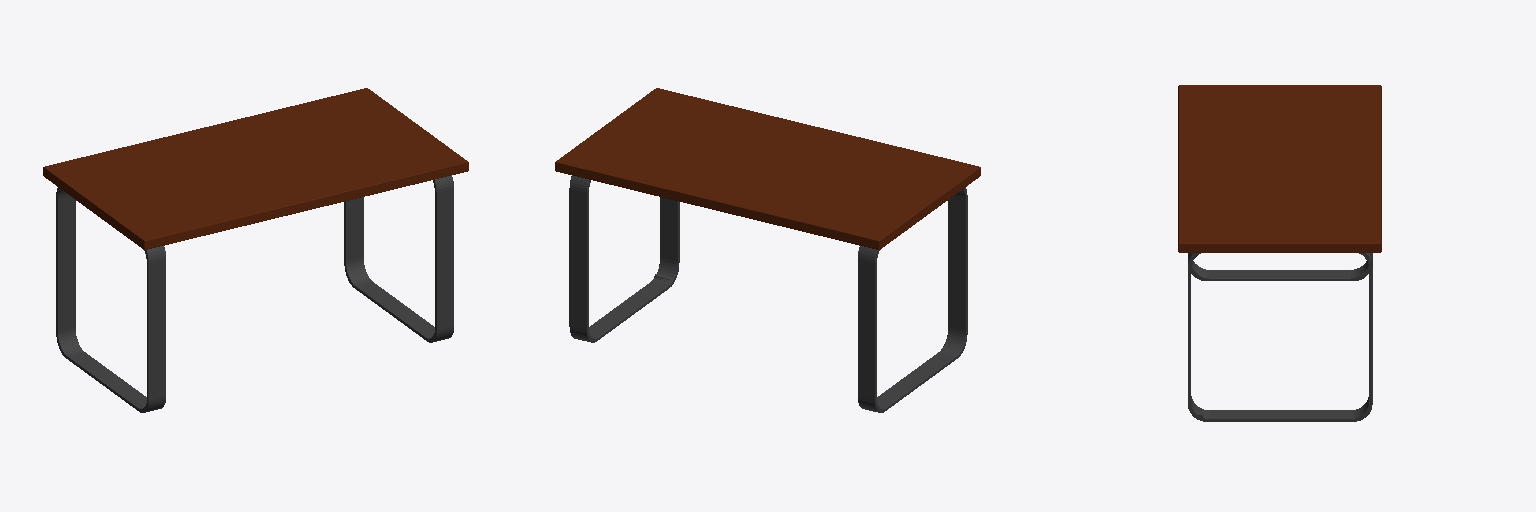
Rendered from desk2.obj.
The picture shows the model from 3 angles: view 1: azimuth 30°, elevation 25°; view 2: azimuth 150°, elevation 25°; view 3: azimuth 270°, elevation 25°; orthographic projection.
Visible parts, largest first — view 1: BasicDesk_2; view 2: BasicDesk_2; view 3: BasicDesk_2.
Boxes of the visible parts, x1=… form: BasicDesk_2: x1=43, y1=88, x2=468, y2=412; BasicDesk_2: x1=555, y1=88, x2=980, y2=412; BasicDesk_2: x1=1178, y1=85, x2=1381, y2=421.
Size of the model in its own units: 2.8 by 1.51 by 1.52.